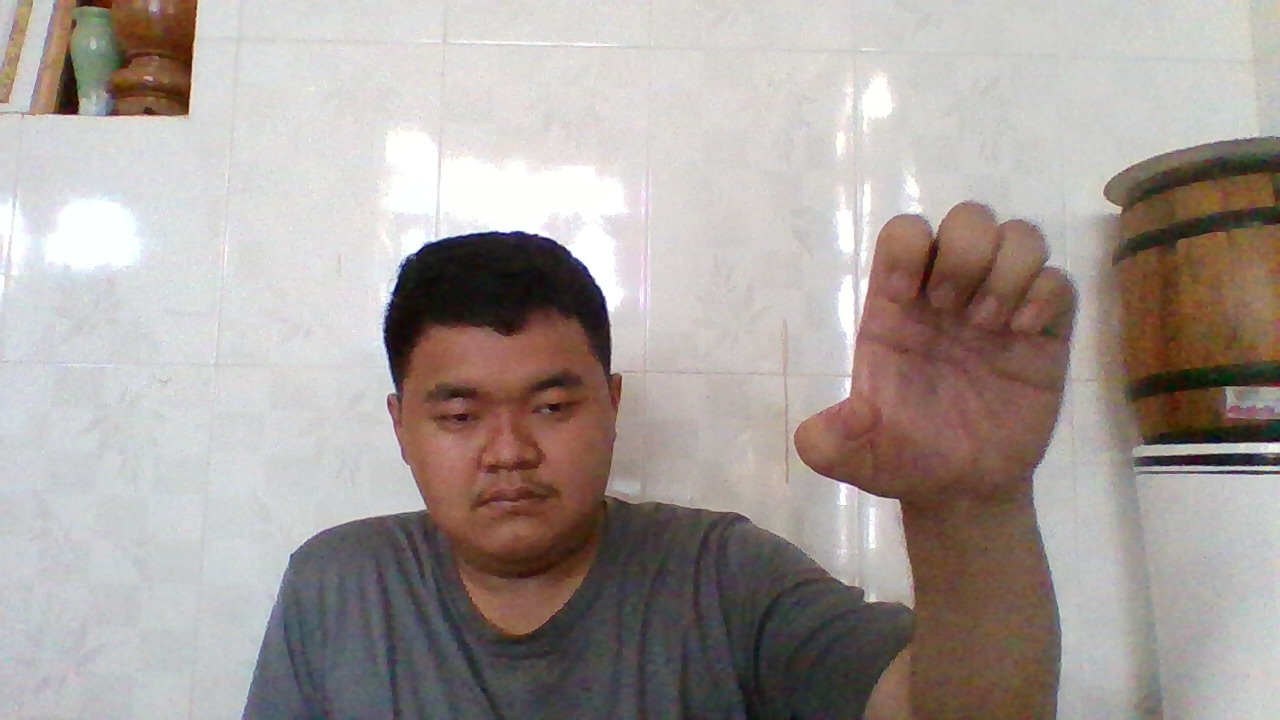E: (801, 198, 1080, 502)
